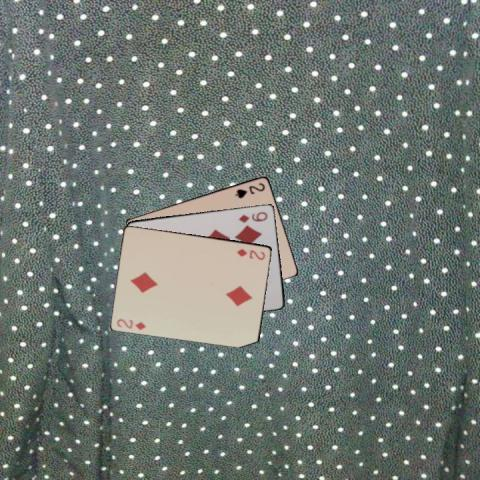2d: (114, 315, 147, 331), (234, 245, 266, 261)
2s: (232, 180, 267, 199)
9d: (236, 209, 269, 224)
